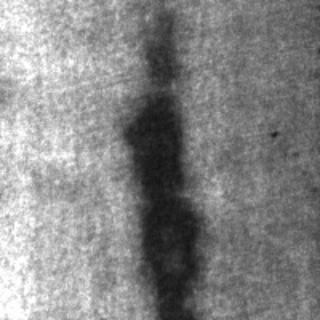patches: (125, 87, 198, 317)
